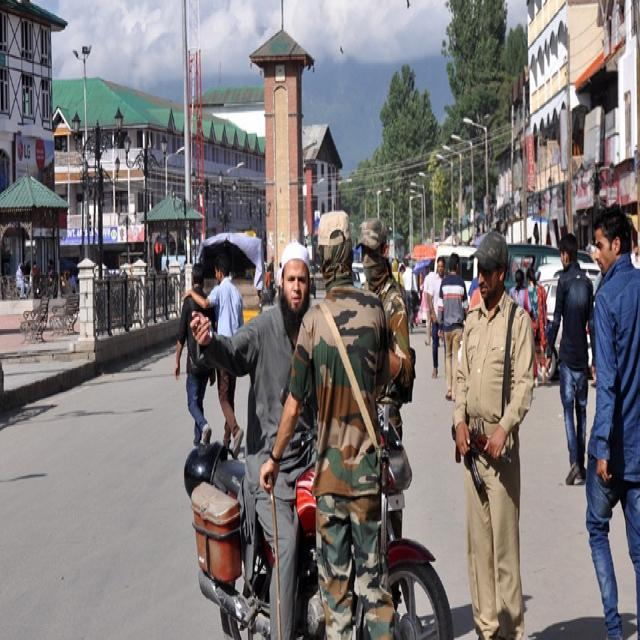body: (258, 204, 412, 638), (187, 237, 313, 640), (542, 230, 640, 640), (445, 230, 535, 638), (354, 213, 418, 613), (581, 198, 639, 638), (181, 252, 247, 458), (391, 255, 495, 350), (171, 260, 219, 455), (437, 250, 470, 402), (0, 245, 83, 300), (560, 230, 640, 267), (426, 254, 449, 380), (521, 264, 548, 346), (508, 267, 533, 317), (422, 258, 436, 347), (263, 262, 276, 306), (160, 251, 174, 278), (275, 260, 284, 299)
